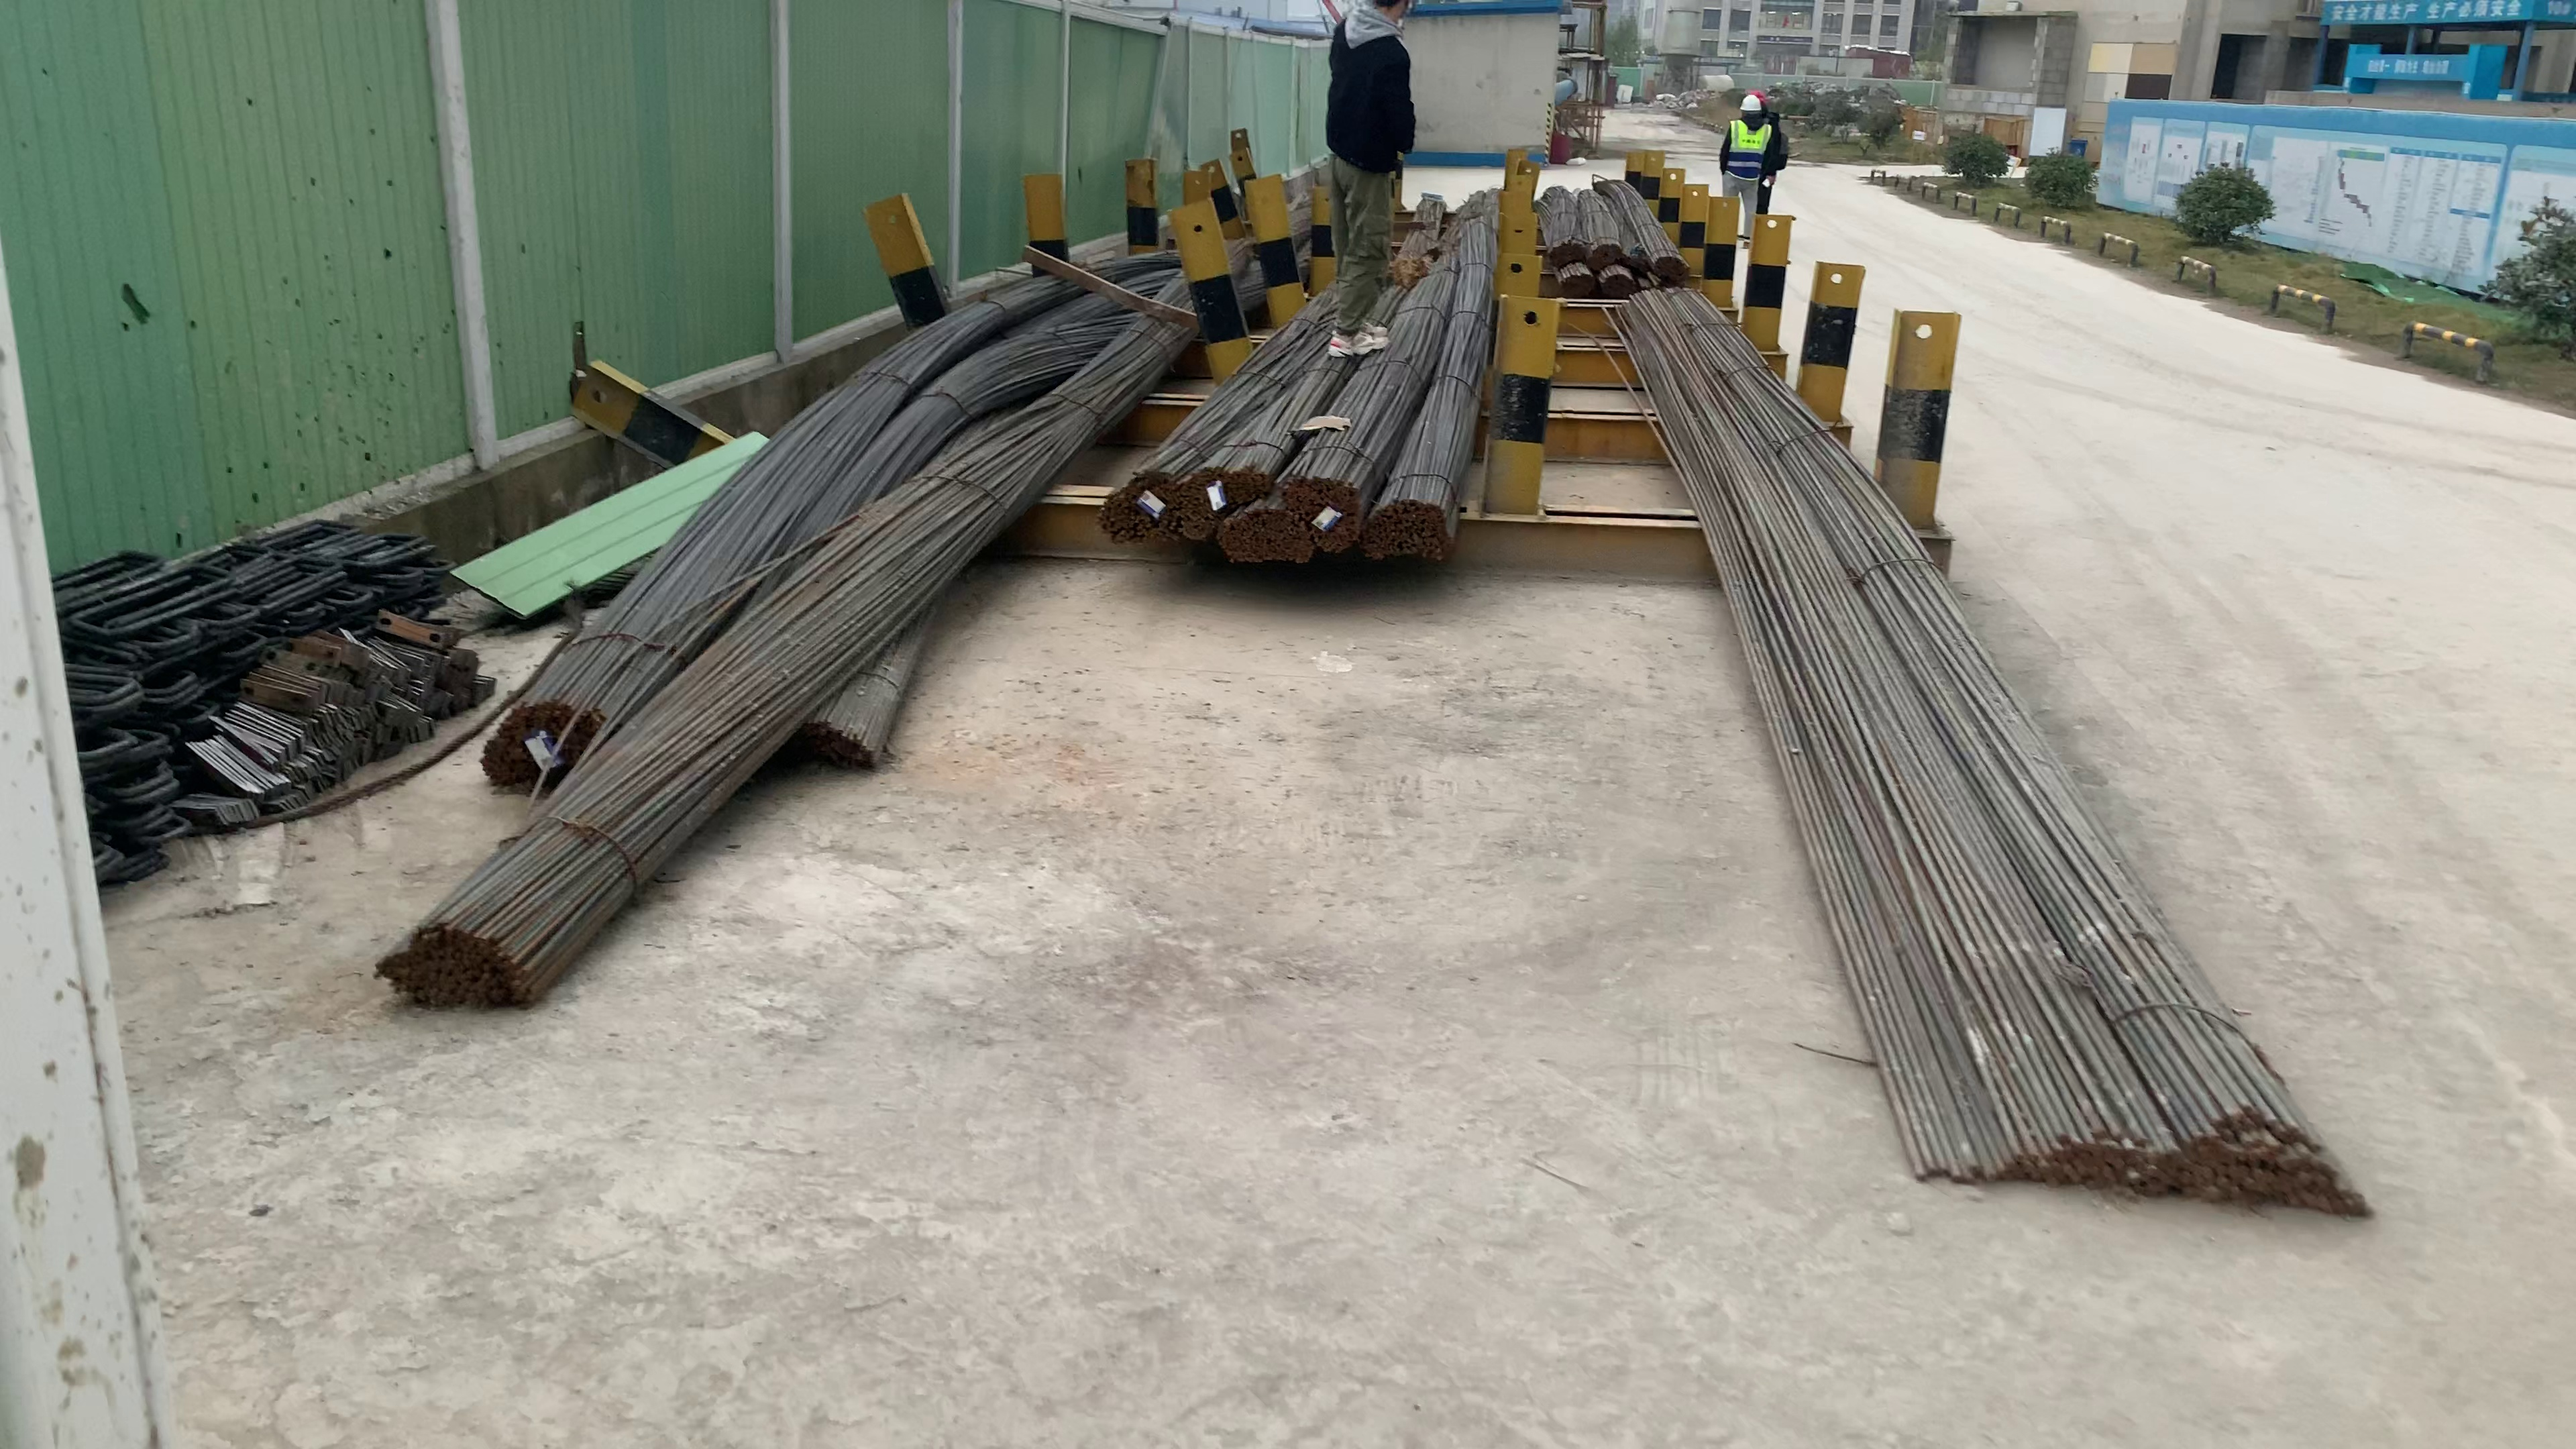rebar: (1916, 1109, 2383, 1228), (377, 906, 536, 1014), (467, 702, 602, 780), (773, 711, 867, 773), (1284, 471, 1359, 548), (1095, 476, 1178, 545), (1178, 464, 1261, 533), (1366, 499, 1453, 561), (1219, 511, 1306, 571), (1654, 249, 1695, 276), (1589, 241, 1621, 265), (1562, 267, 1596, 288), (1599, 272, 1633, 294), (1550, 239, 1580, 260)
